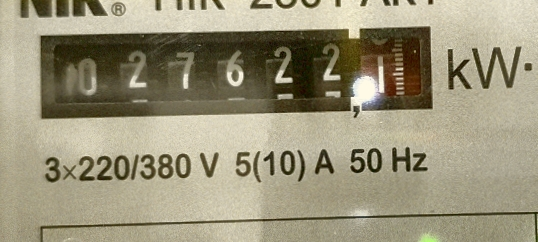0: (75, 54, 100, 97)
1: (372, 51, 388, 95)
2: (270, 43, 295, 85), (125, 48, 149, 90), (320, 40, 343, 82)
6: (223, 47, 245, 88)
7: (173, 49, 197, 92)
screen: (27, 16, 446, 125)
